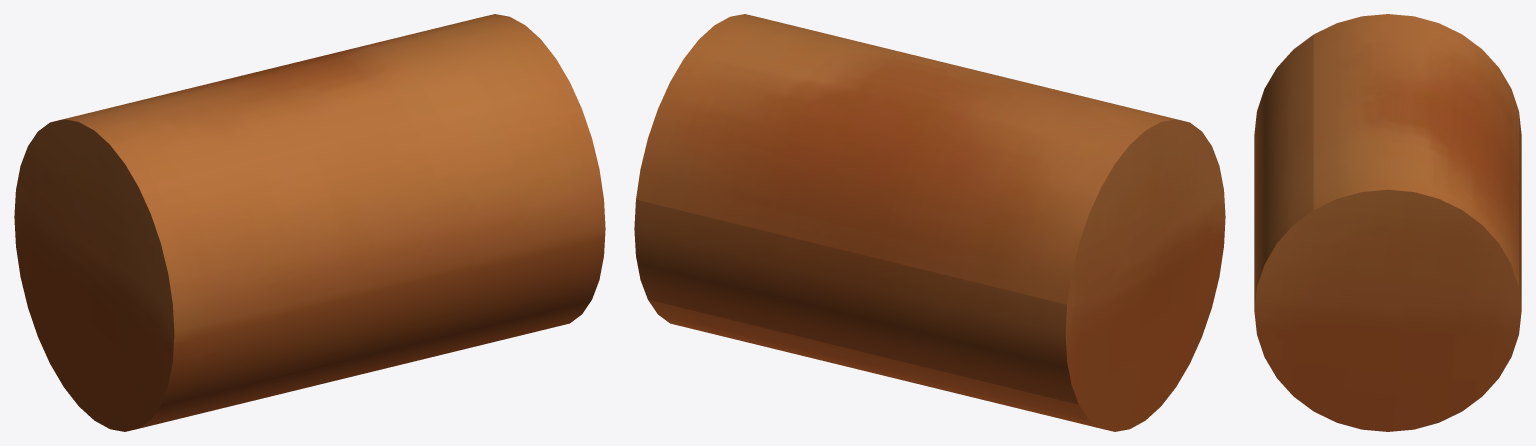
The model's file is joystick__pivot_barrel.glb.
3 renders of one model, left to right at view 1: azimuth 30°, elevation 25°; view 2: azimuth 150°, elevation 25°; view 3: azimuth 270°, elevation 25°, orthographic. The views are drawn at different scales.
Visible parts, largest first — view 1: geometry_0; view 2: geometry_0; view 3: geometry_0.
Part boxes in pixels (x1,y1,x2,y2): geometry_0: [14, 14, 605, 431]; geometry_0: [634, 14, 1225, 431]; geometry_0: [1254, 14, 1521, 431].
Size of the model in its own units: 0.014 by 0.009 by 0.009.
Materials: 1 (1 with a texture image).
